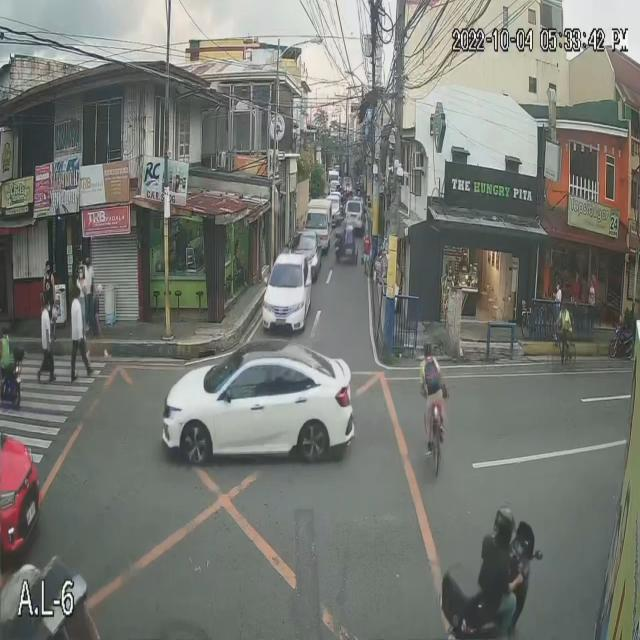Full-Faced: (489, 508, 519, 543)
